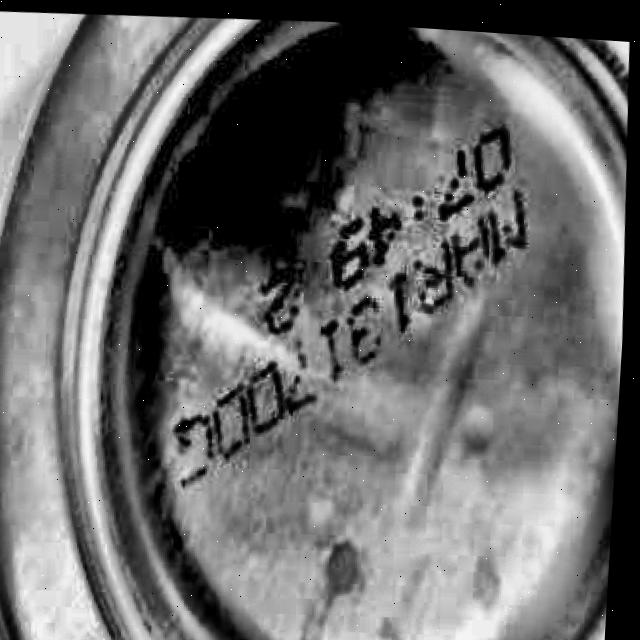metal: (0, 13, 629, 640)
